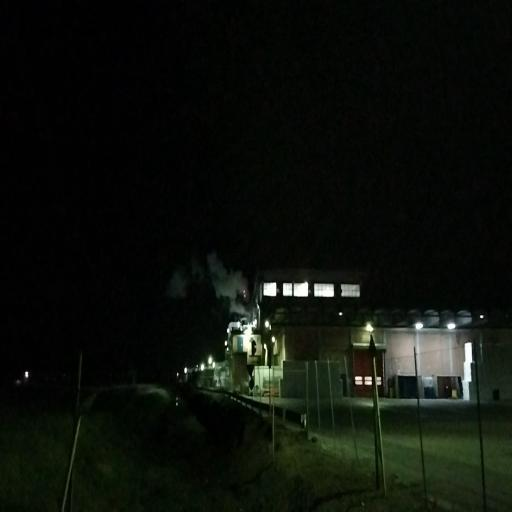leakage: (164, 235, 258, 325)
